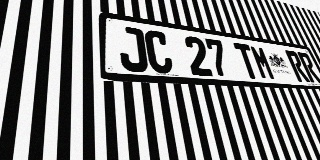2: (183, 35, 213, 76)
7: (203, 38, 232, 78)
C: (144, 29, 174, 74)
J: (118, 26, 149, 73)
M: (249, 45, 276, 80)
R: (284, 50, 310, 82), (297, 52, 320, 83)
T: (233, 42, 261, 79)
